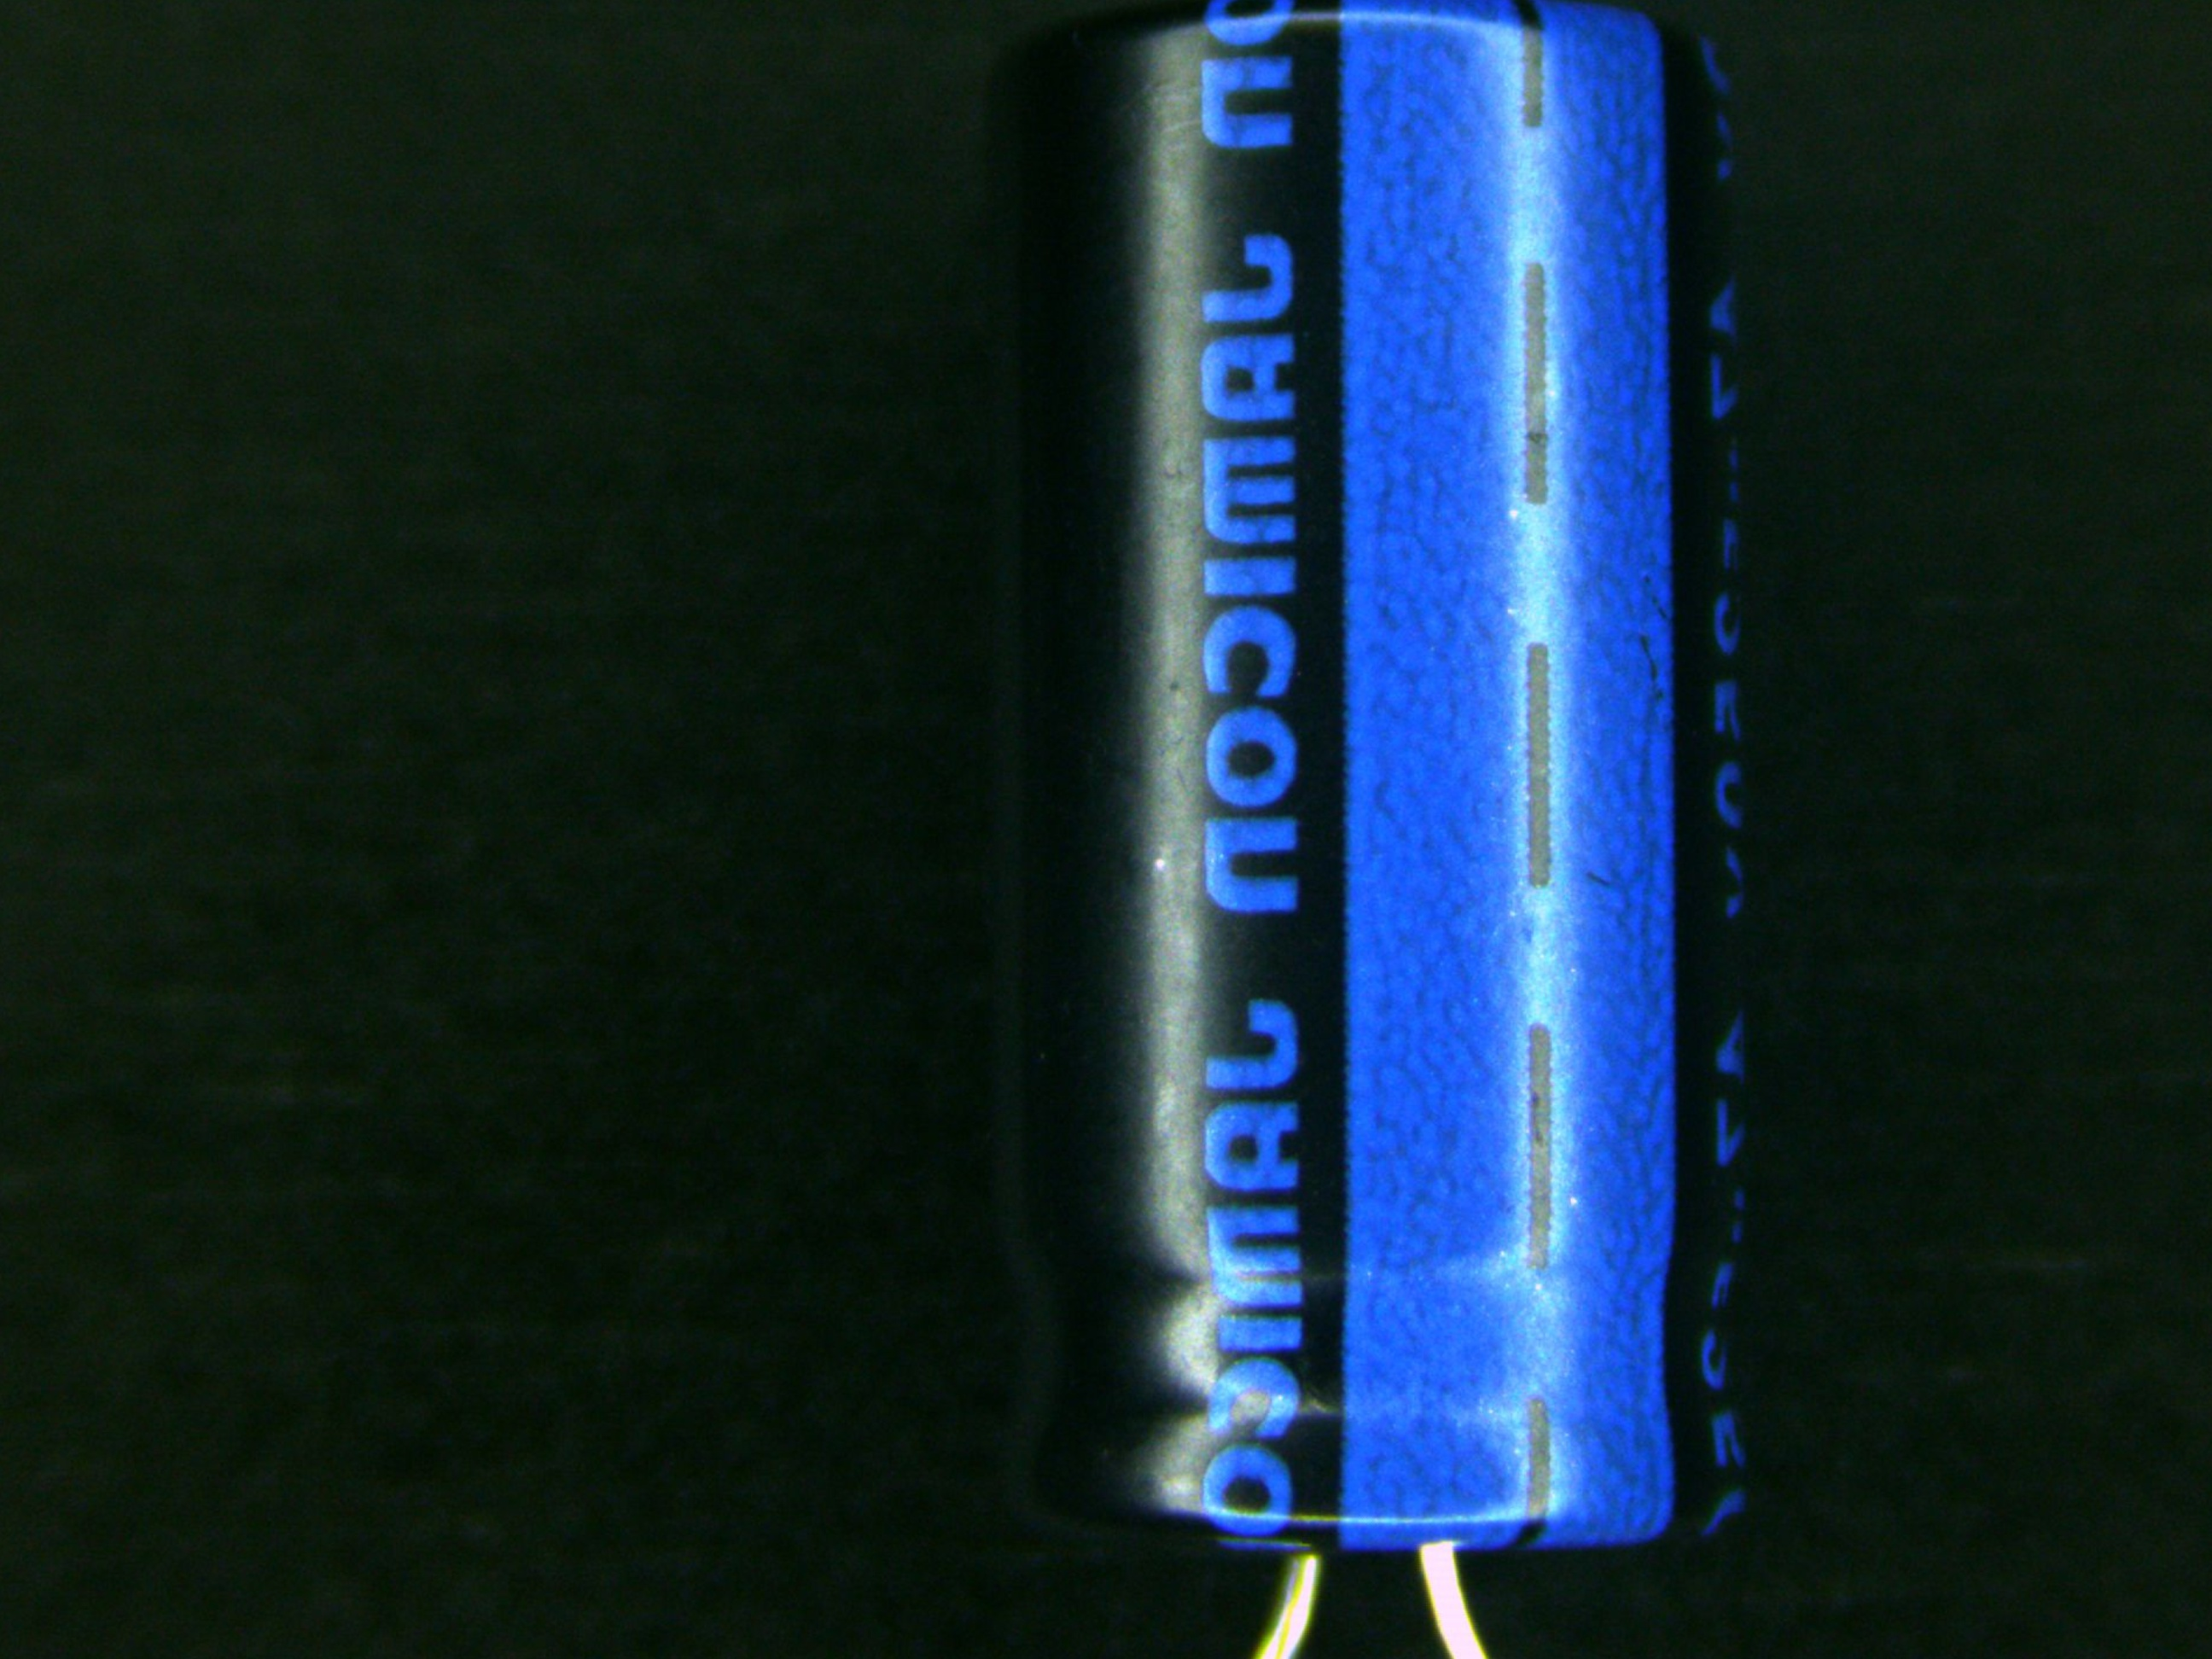c2: (982, 0, 1757, 1659)
